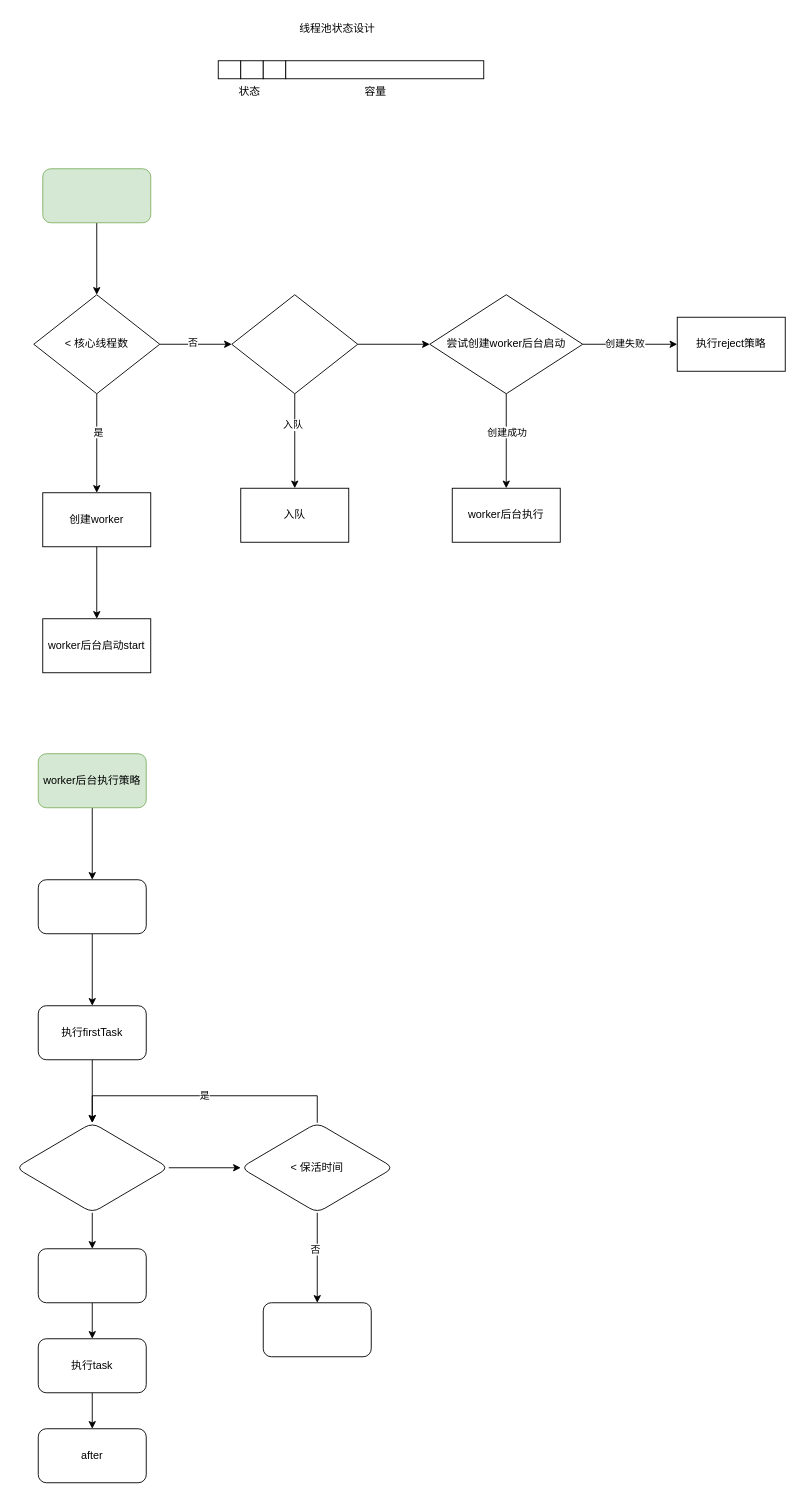
The diagram is 801 pixels wide and 1499 high, and some of its shapes have lost their labels. The centre of each missing label's shape, as x and y in pixels:
before: point (91, 1275)
execute(提交任务): point (96, 195)
start: point (91, 906)
workQueue获取Task: point (92, 1167)
加入队列workQueue: point (294, 344)
回收worker线程: point (316, 1329)
